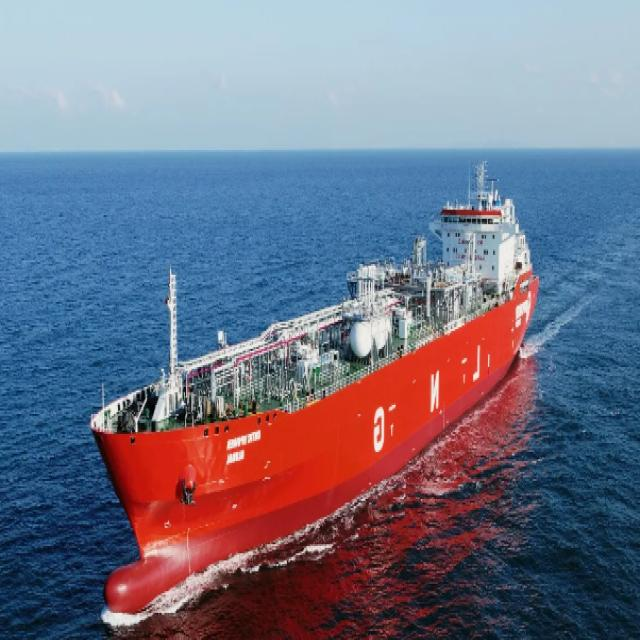cargoship: (93, 153, 537, 624)
